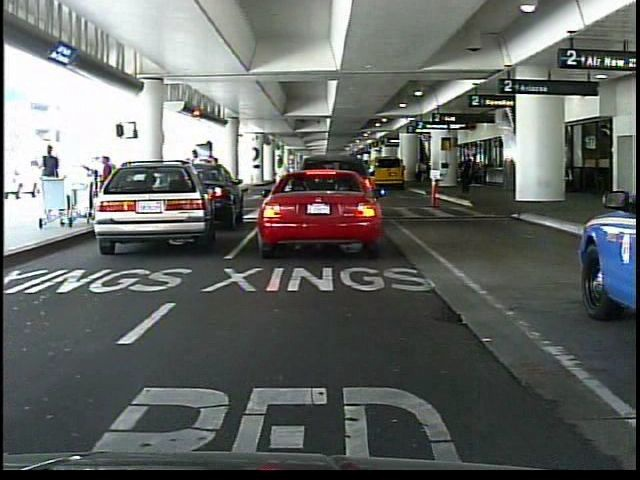person: (38, 141, 64, 220), (186, 147, 203, 224), (272, 152, 291, 205), (201, 154, 219, 204), (460, 155, 475, 195), (416, 155, 428, 188)
